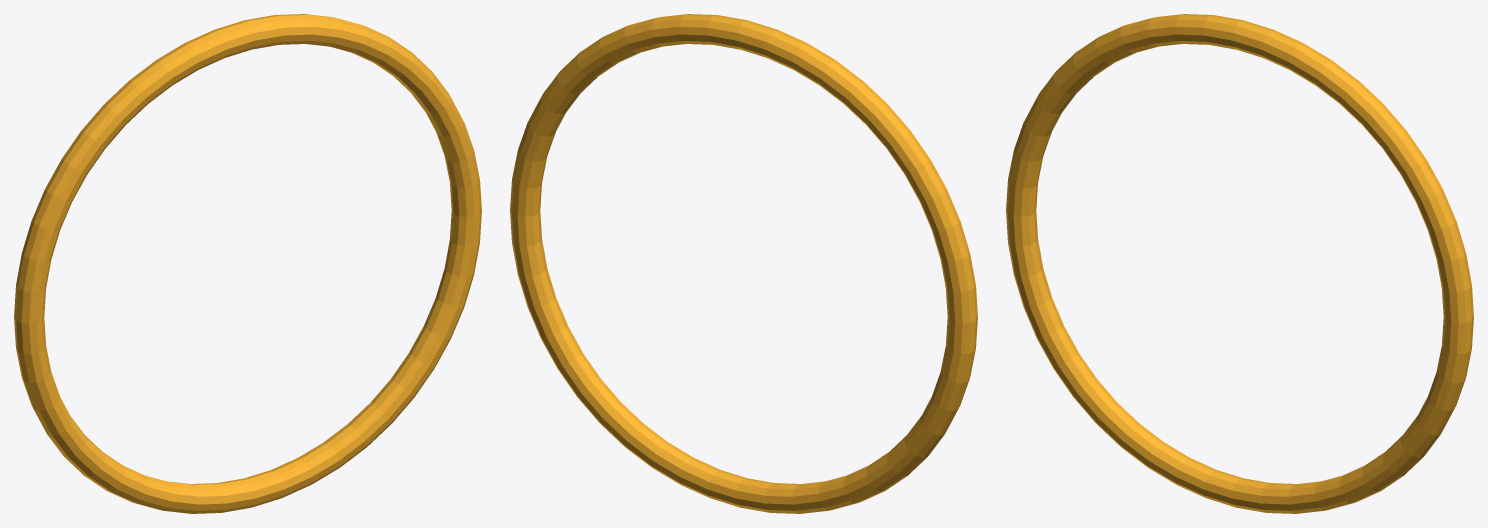
File: earring_gold_hoopp.glb
The picture shows the model from 3 angles, left to right: view 1: azimuth 30°, elevation 25°; view 2: azimuth 150°, elevation 25°; view 3: azimuth 330°, elevation 25°; orthographic projection.
Parts seen in each view (by area): view 1: Torus; view 2: Torus; view 3: Torus.
Boxes of the visible parts, x1,y1,x2,y2 form: Torus: (14, 14, 481, 513); Torus: (510, 14, 977, 513); Torus: (1006, 14, 1473, 513).
Bounding box in the file's own units: 2.12 × 2.12 × 0.12.
